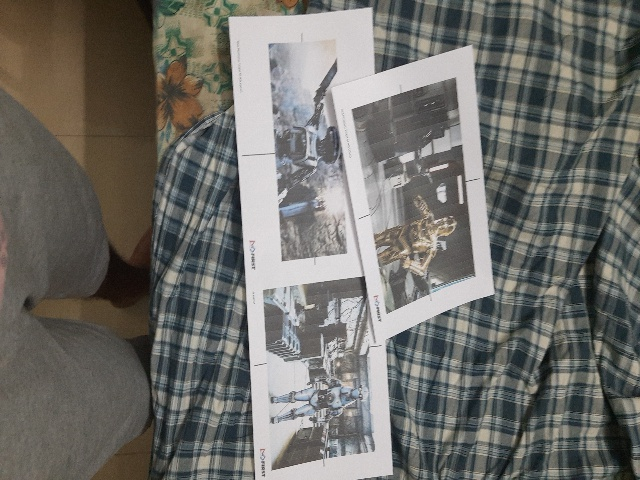bpt2: (257, 31, 357, 270)
fpt1: (255, 285, 380, 472)
rpt1: (346, 78, 477, 291)
